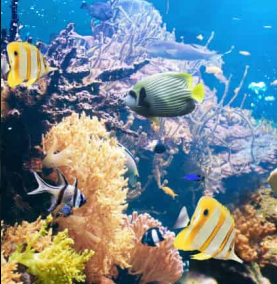fishRound: (172, 194, 244, 265), (121, 71, 205, 126), (2, 41, 58, 91)
fishSmall: (28, 166, 89, 213), (139, 226, 167, 248), (160, 186, 179, 201)
